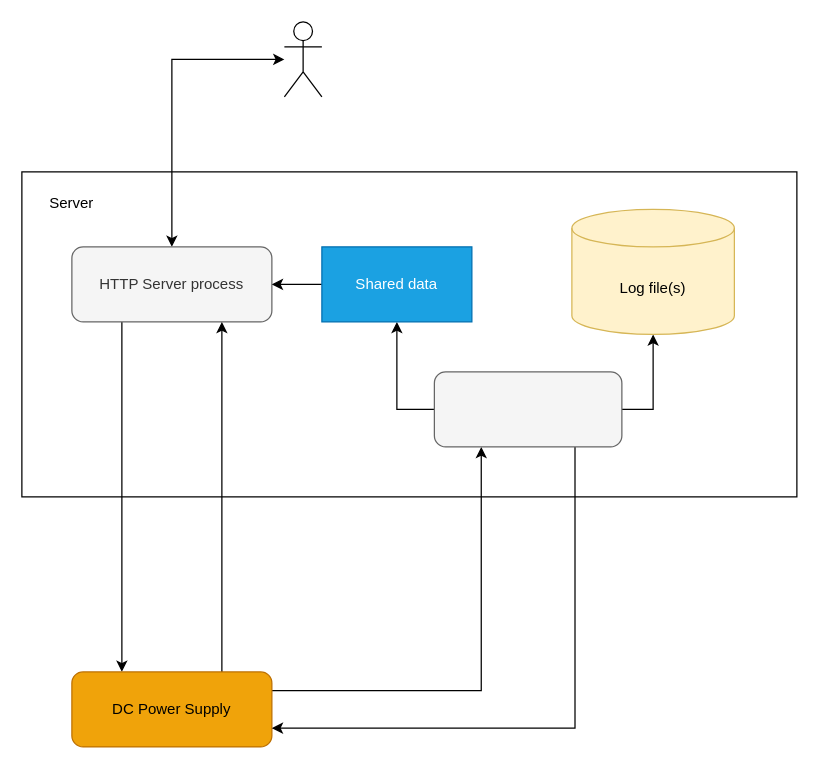
The diagram is 819 pixels wide and 769 high, and some of its shapes have lost their labels. The shapes that lost their labels are listed below. From the top down, each one's box as (x1, y1, x2, y2) in pixels, then its label:
(283, 21, 322, 97): User
(433, 371, 622, 447): Telemetry process
